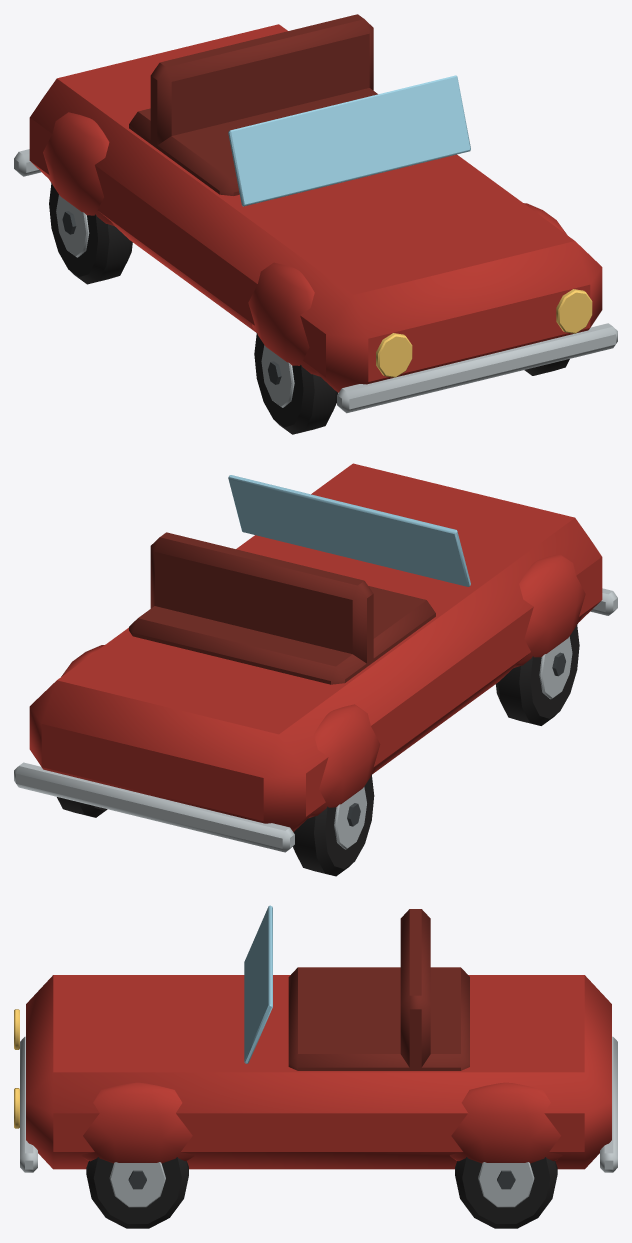
File: 161_cabriolet_retro.fbx
3 renders of one model, top to bottom at view 1: azimuth 30°, elevation 25°; view 2: azimuth 150°, elevation 25°; view 3: azimuth 270°, elevation 25°, orthographic. The views are drawn at different scales.
Visible parts, largest first — view 1: Carrosserie, Vitres, Roues; view 2: Carrosserie, Vitres, Roues; view 3: Carrosserie, Roues, Vitres.
Part boxes in pixels (left/top/right/bottom): Carrosserie: left=14, top=14, right=617, bottom=413; Vitres: left=228, top=75, right=470, bottom=206; Roues: left=49, top=182, right=569, bottom=434; Carrosserie: left=14, top=463, right=617, bottom=852; Vitres: left=228, top=475, right=470, bottom=586; Roues: left=57, top=624, right=579, bottom=876; Carrosserie: left=14, top=909, right=617, bottom=1172; Roues: left=86, top=1157, right=557, bottom=1228; Vitres: left=244, top=905, right=272, bottom=1063.
Size of the model in its own units: 1.4 by 1.12 by 2.8.
1 material, 1 textured.
